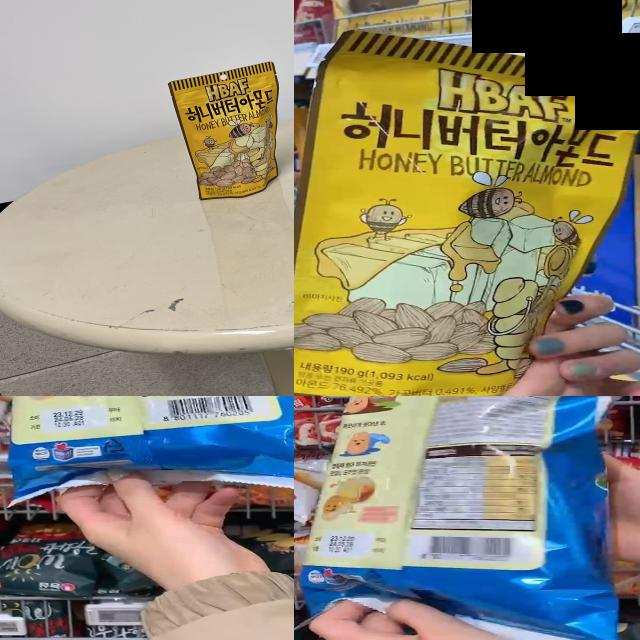honeyAmond: (168, 62, 280, 202)
pokaChip: (322, 396, 608, 638), (2, 396, 294, 507)
